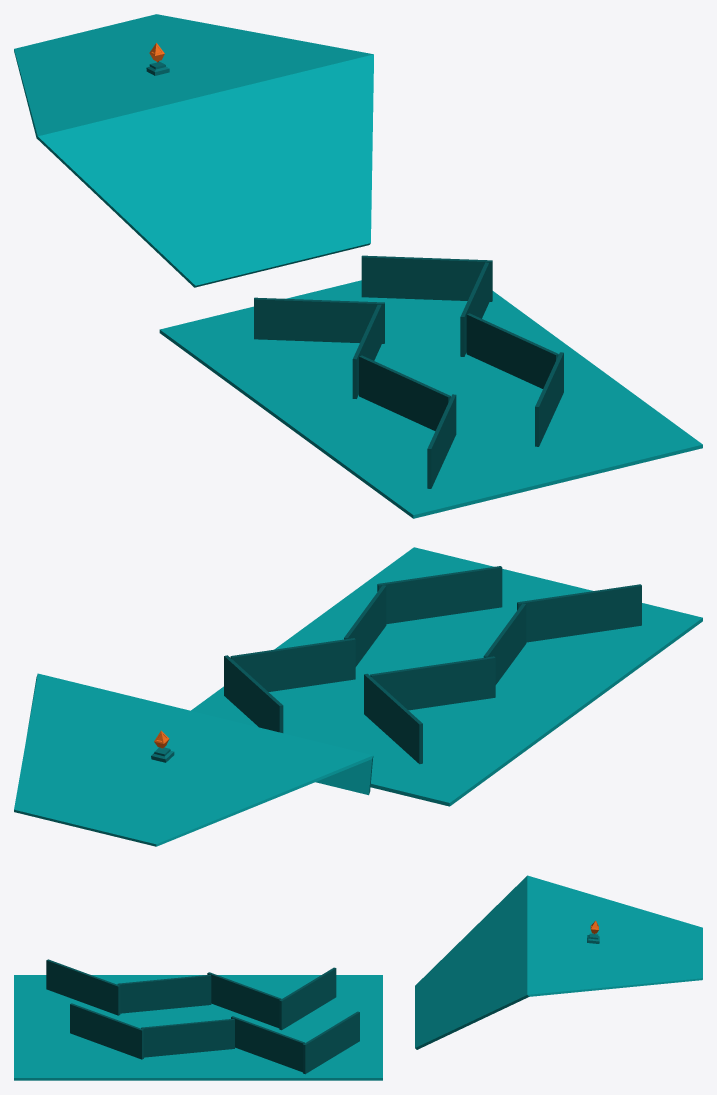
Rendered from Level 2.fbx.
3 views of the same model, one above another, from view 1: azimuth 30°, elevation 25°; view 2: azimuth 150°, elevation 25°; view 3: azimuth 270°, elevation 25° (orthographic). The views are drawn at different scales.
Parts seen in each view (by area): view 1: Cube.024, Cube.015, Cube.023, Cube.020, Cube.021, Cube.014, Cube.027, Cube.028, Cube.022, Cube.019; view 2: Cube.015, Cube.024, Cube.028, Cube.027, Cube.019, Cube.022, Cube.020, Cube.023, Cube.014, Cube.021; view 3: Cube.024, Cube.015, Cube.014, Cube.021, Cube.027, Cube.028, Cube.019, Cube.022, Cube.020, Cube.023.
Boxes of the visible parts, x1,y1,x2,y2 form: Cube.024: [14, 14, 373, 287]; Cube.015: [159, 280, 702, 518]; Cube.023: [361, 255, 492, 301]; Cube.020: [254, 297, 384, 343]; Cube.021: [466, 313, 558, 388]; Cube.014: [359, 355, 450, 430]; Cube.027: [427, 394, 456, 488]; Cube.028: [535, 352, 563, 446]; Cube.022: [460, 262, 489, 356]; Cube.019: [352, 304, 381, 398]; Cube.015: [191, 547, 702, 806]; Cube.024: [14, 673, 373, 846]; Cube.028: [377, 566, 502, 624]; Cube.027: [517, 584, 641, 642]; Cube.019: [370, 656, 495, 710]; Cube.022: [230, 638, 355, 691]; Cube.020: [364, 673, 422, 764]; Cube.023: [224, 655, 283, 732]; Cube.014: [483, 603, 526, 684]; Cube.021: [344, 585, 386, 666]; Cube.024: [415, 875, 702, 1049]; Cube.015: [14, 975, 382, 1080]; Cube.014: [117, 974, 211, 1013]; Cube.021: [141, 1018, 234, 1057]; Cube.027: [46, 959, 120, 1015]; Cube.028: [70, 1003, 143, 1059]; Cube.019: [207, 972, 281, 1028]; Cube.022: [231, 1016, 304, 1072]; Cube.020: [279, 967, 336, 1030]; Cube.023: [303, 1011, 359, 1074].
Size of the model in its own units: 3423 by 1445 by 8349.
